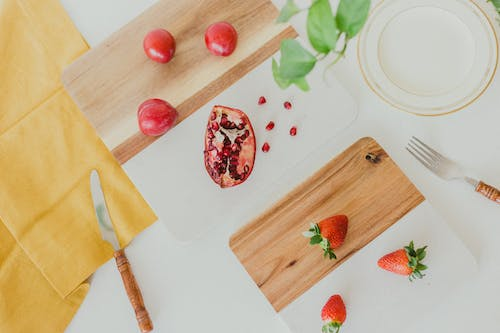knife: (89, 168, 154, 333)
